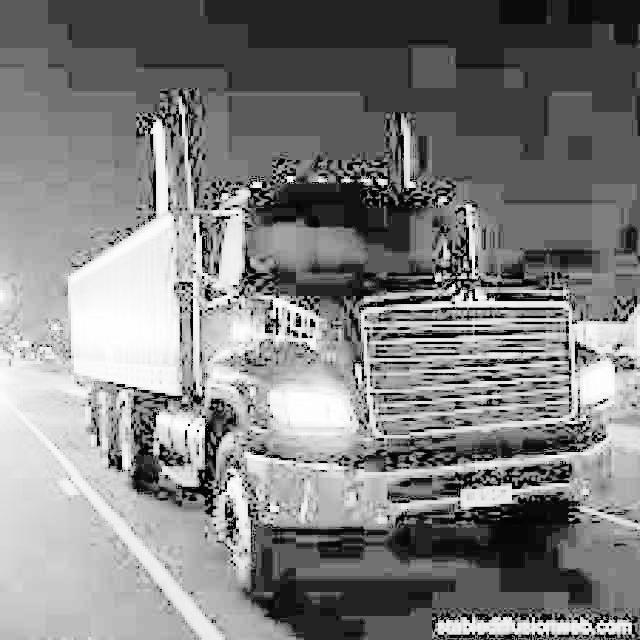Truck: (66, 91, 618, 598)
